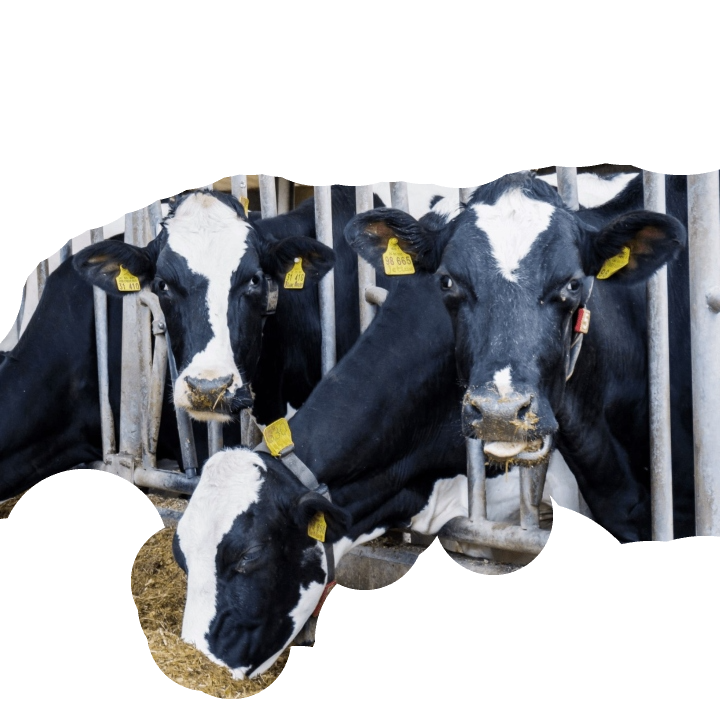Cow: (348, 172, 719, 543)
